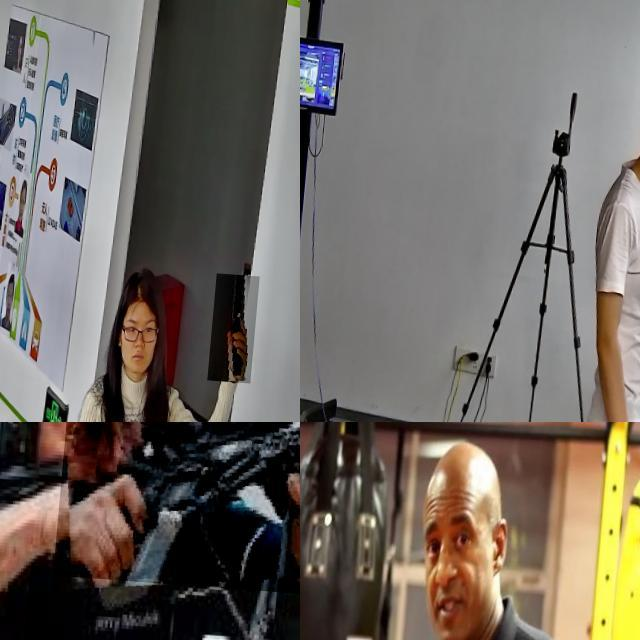gun-knife-thesis - v11 Yolov5 augmented: (59, 422, 300, 596), (216, 266, 266, 375)
